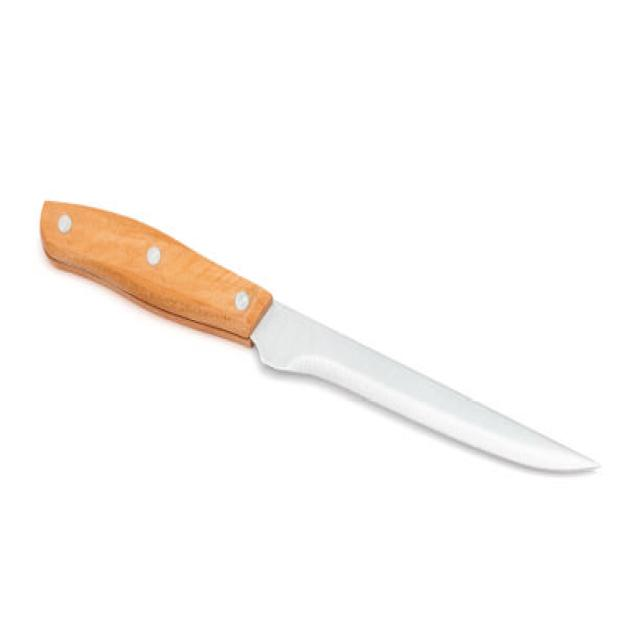knife: (37, 189, 607, 495)
